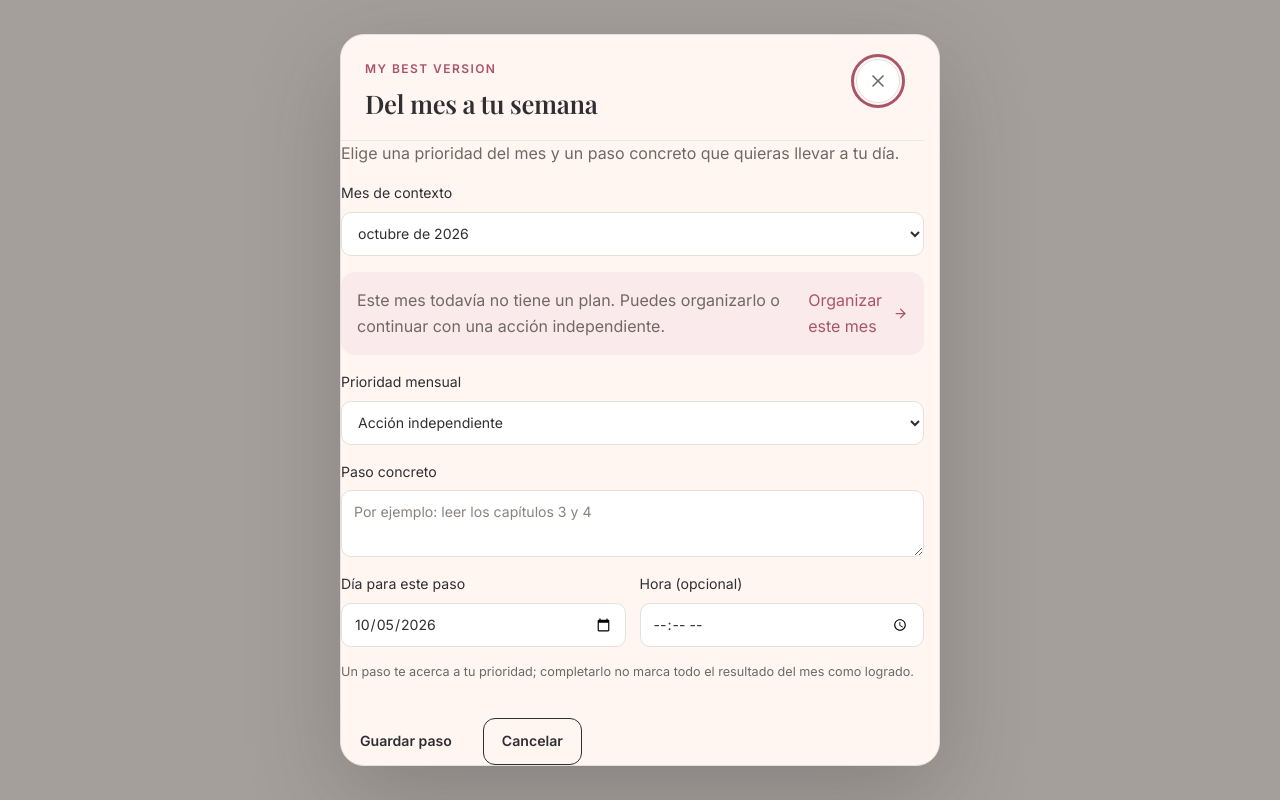
Test: monthly priority editor › allows an independent action without any monthly plan
Expected: the link "Organizar este mes" is shown, x1=808 y1=288 x2=908 y2=339
Type "Caminar con calma" into the text box labelled "Paso concreto" at {"x": 632, "y": 524}, box x1=341 y1=490 x2=924 y2=557
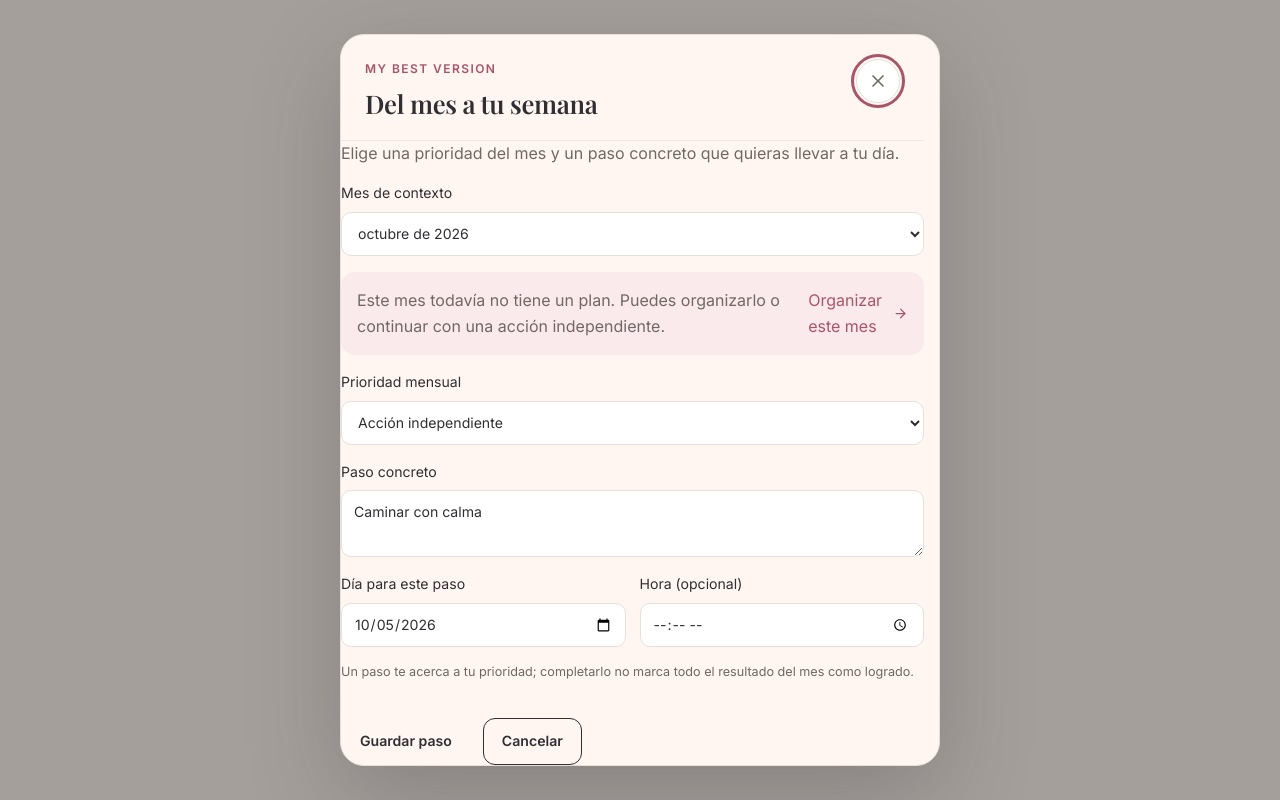
Click the button "Guardar paso" at {"x": 406, "y": 741}, box x1=341 y1=718 x2=471 y2=765
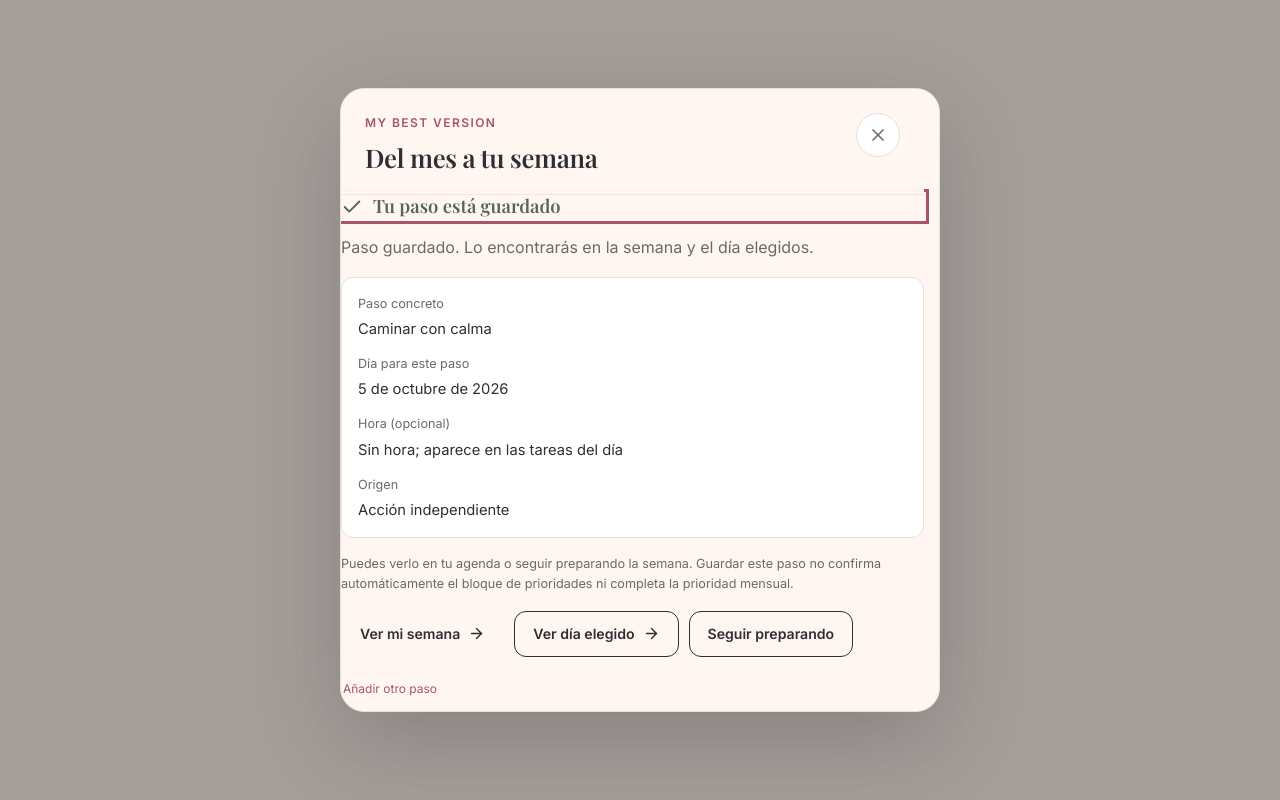
Expected: the text "Acción independiente" is shown, x1=358 y1=501 x2=510 y2=519
Expected: the heading "Tu paso está guardado" is shown, x1=341 y1=193 x2=561 y2=218
Expected: the text "Sin hora; aparece en las tareas del día" is shown, x1=358 y1=441 x2=623 y2=459
